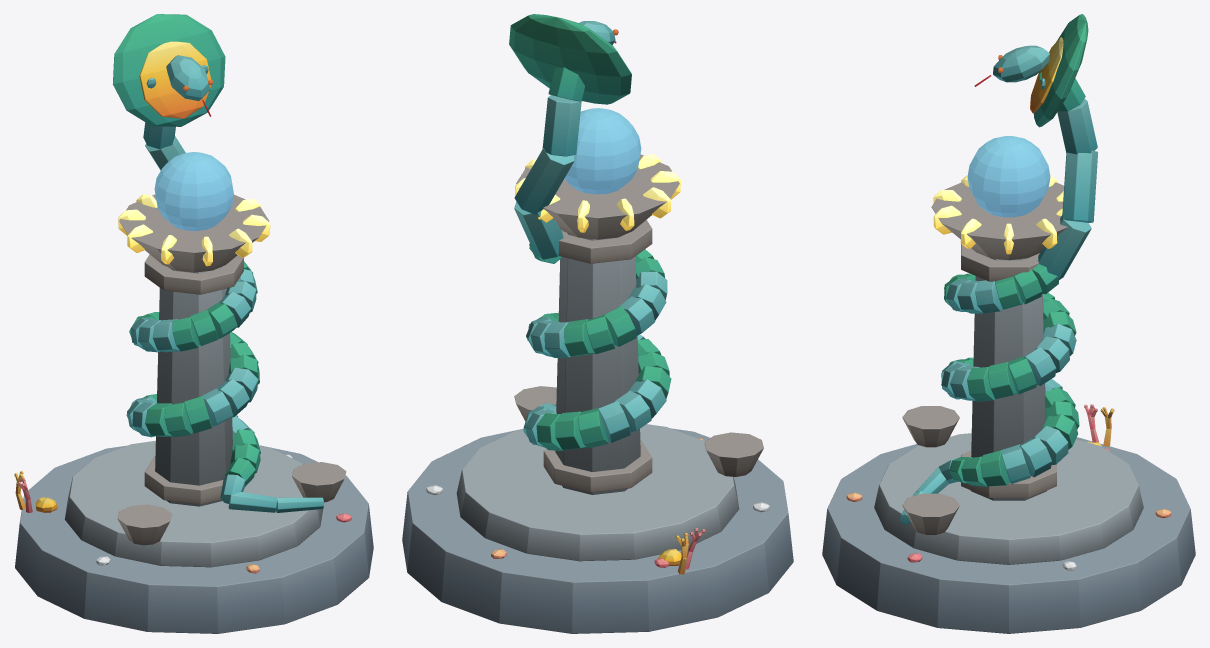
Rendered from naga_shrine.glb.
3 views of the same model, side by side, from view 1: azimuth 30°, elevation 25°; view 2: azimuth 150°, elevation 25°; view 3: azimuth 270°, elevation 25° (orthographic). The views are drawn at different scales.
Parts seen in each view (by area): view 1: naga_shrine; view 2: naga_shrine; view 3: naga_shrine.
Boxes of the visible parts, x1=… form: naga_shrine: x1=14, y1=14, x2=373, y2=633; naga_shrine: x1=402, y1=14, x2=793, y2=633; naga_shrine: x1=822, y1=14, x2=1195, y2=633.
Bounding box in the file's own units: 3.6 × 5.71 × 3.6.
4 materials, 4 textured.
